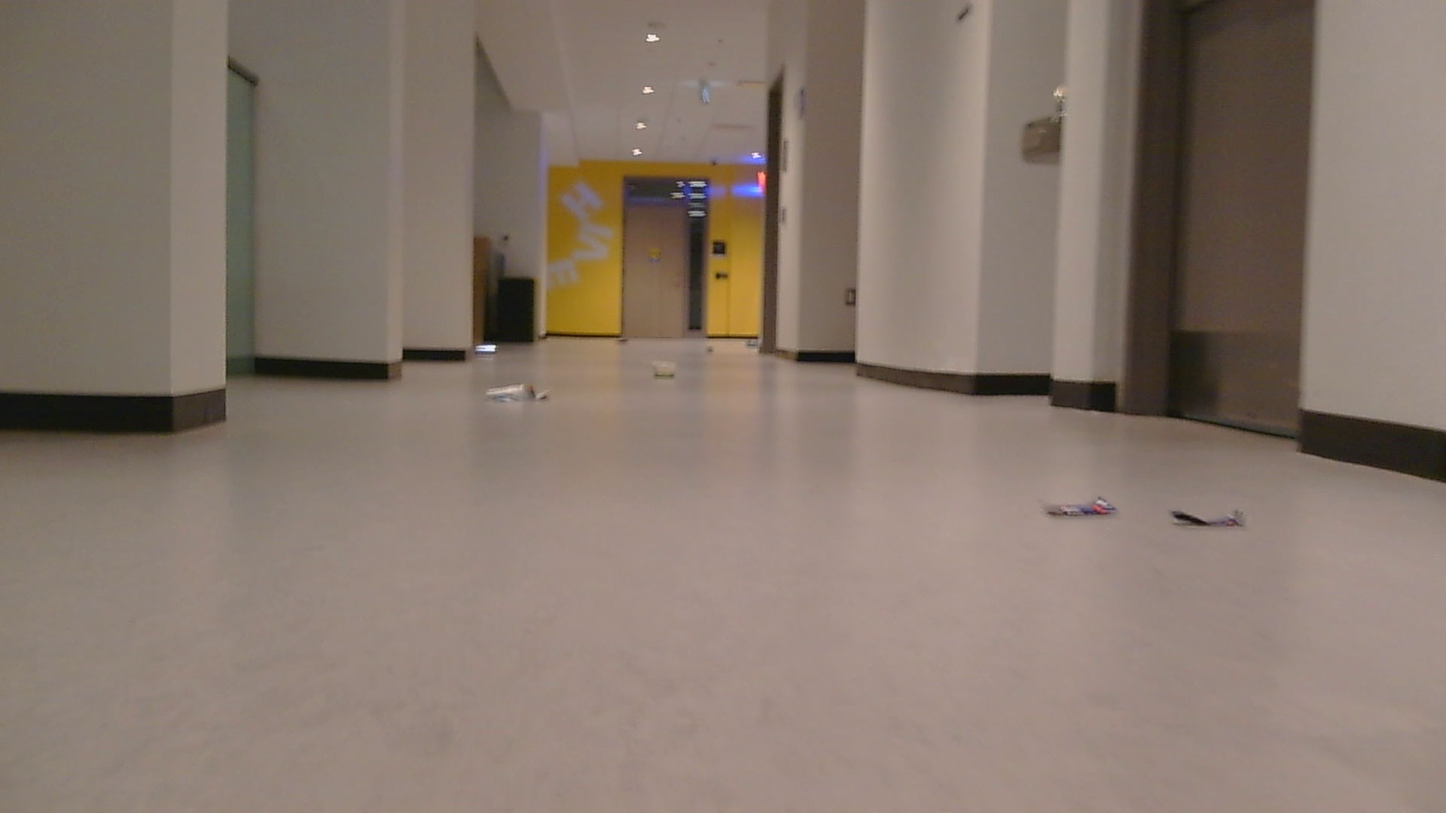carton: (1164, 494, 1267, 540), (1033, 486, 1123, 529), (487, 376, 559, 406), (649, 352, 684, 382), (473, 337, 510, 361), (712, 340, 722, 354)
